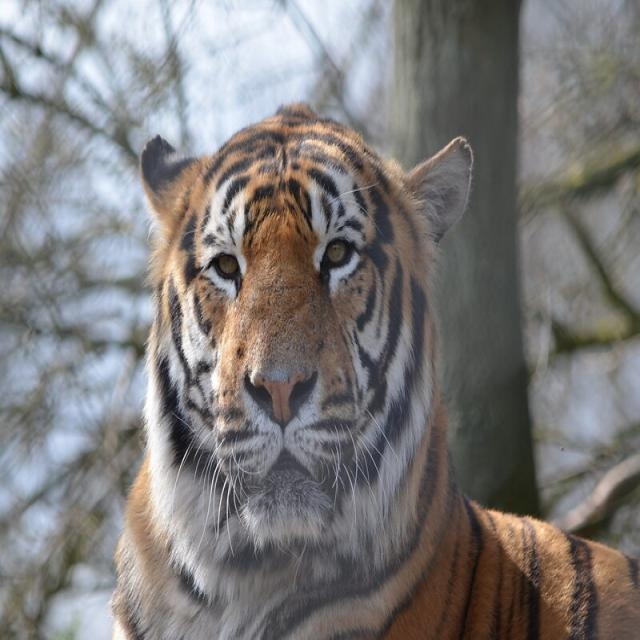Tiger: (106, 98, 636, 636)
